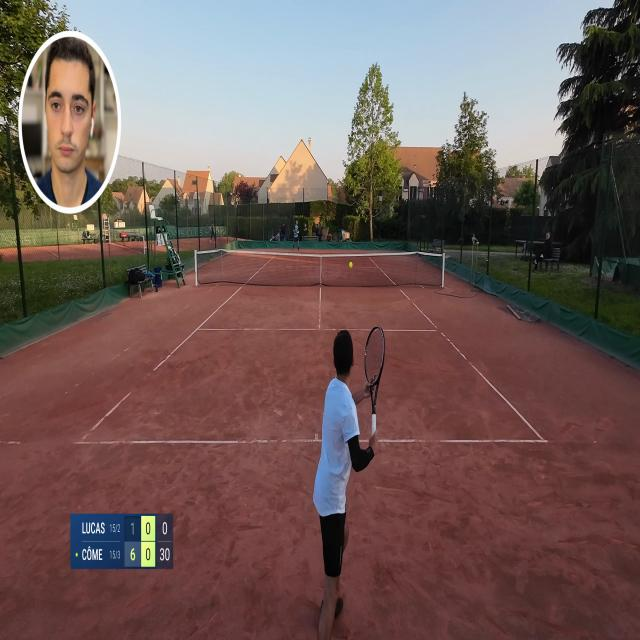ball: (346, 260, 354, 268)
